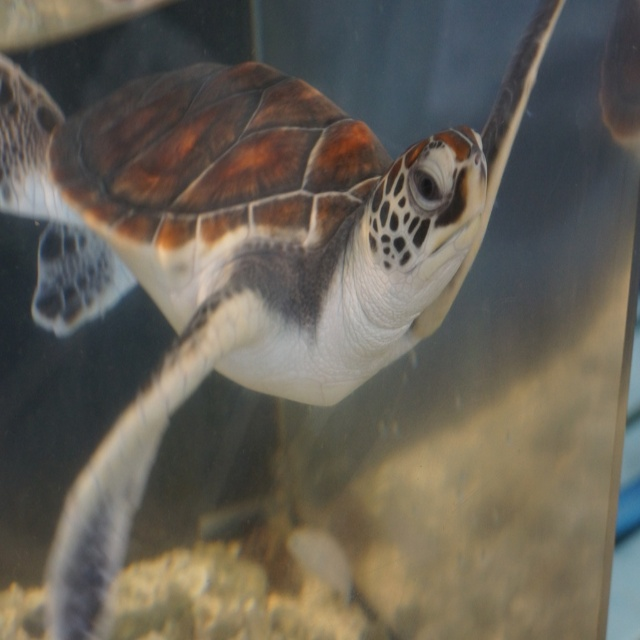Sea turtle: (0, 0, 568, 639)
